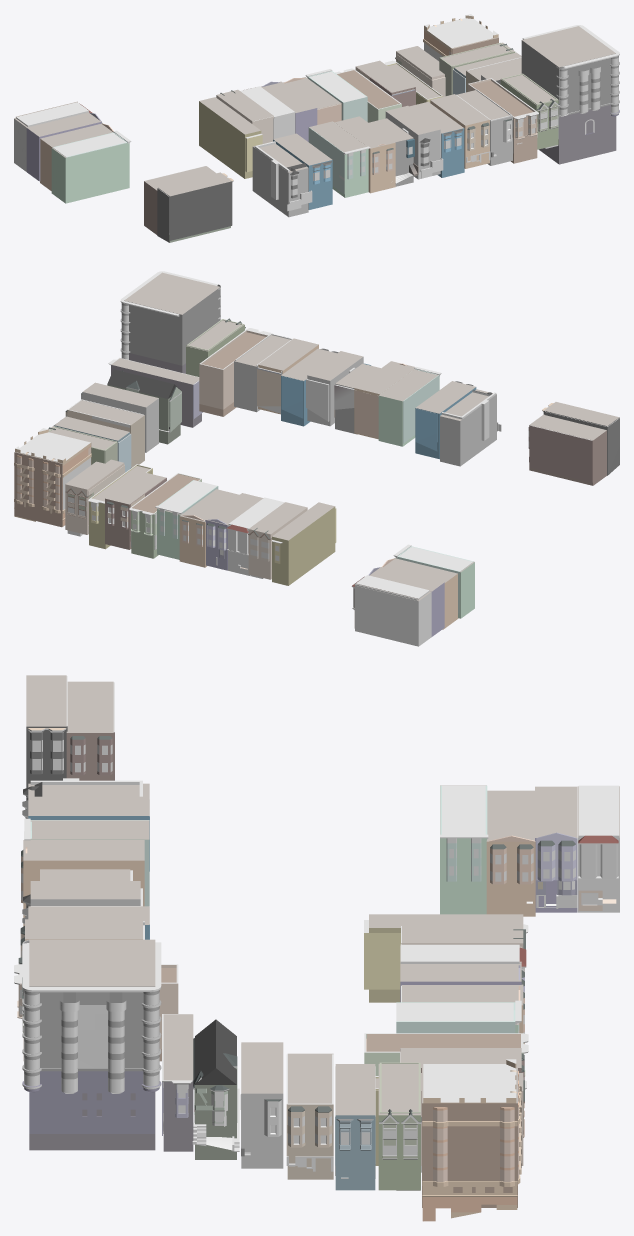
The model's file is city_west11.dae.
3 views of the same model, one above another, from view 1: azimuth 30°, elevation 25°; view 2: azimuth 150°, elevation 25°; view 3: azimuth 270°, elevation 25° (orthographic). The views are drawn at different scales.
Parts seen in each view (by area): view 1: city_west11_a1000, city_west11_a1500; view 2: city_west11_a1000, city_west11_a1500; view 3: city_west11_a1000, city_west11_a1500.
Part boxes in pixels (x1,y1,x2,y2): city_west11_a1000: (14,26,616,240); city_west11_a1500: (16,14,619,242); city_west11_a1000: (14,272,619,646); city_west11_a1500: (14,271,619,613); city_west11_a1000: (23,675,619,1207); city_west11_a1500: (14,676,619,1221).
Size of the model in its own units: 172 by 119 by 51.8.
